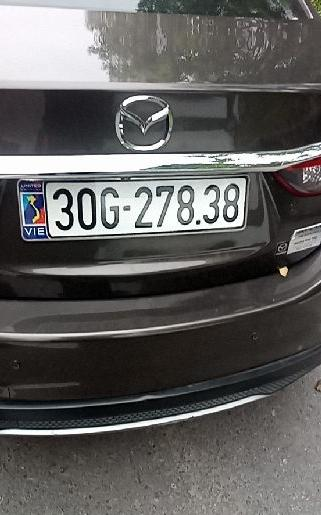Plate-iWeP: (54, 179, 246, 231)
